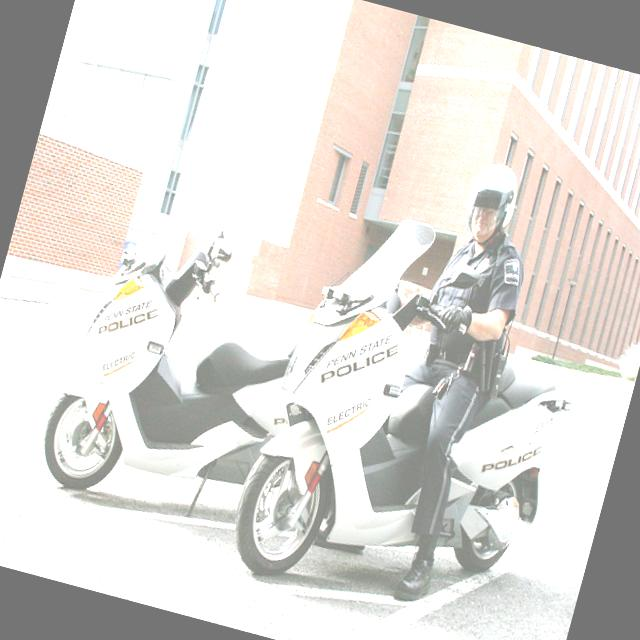Vehicle: (222, 195, 606, 640), (30, 158, 343, 538)
